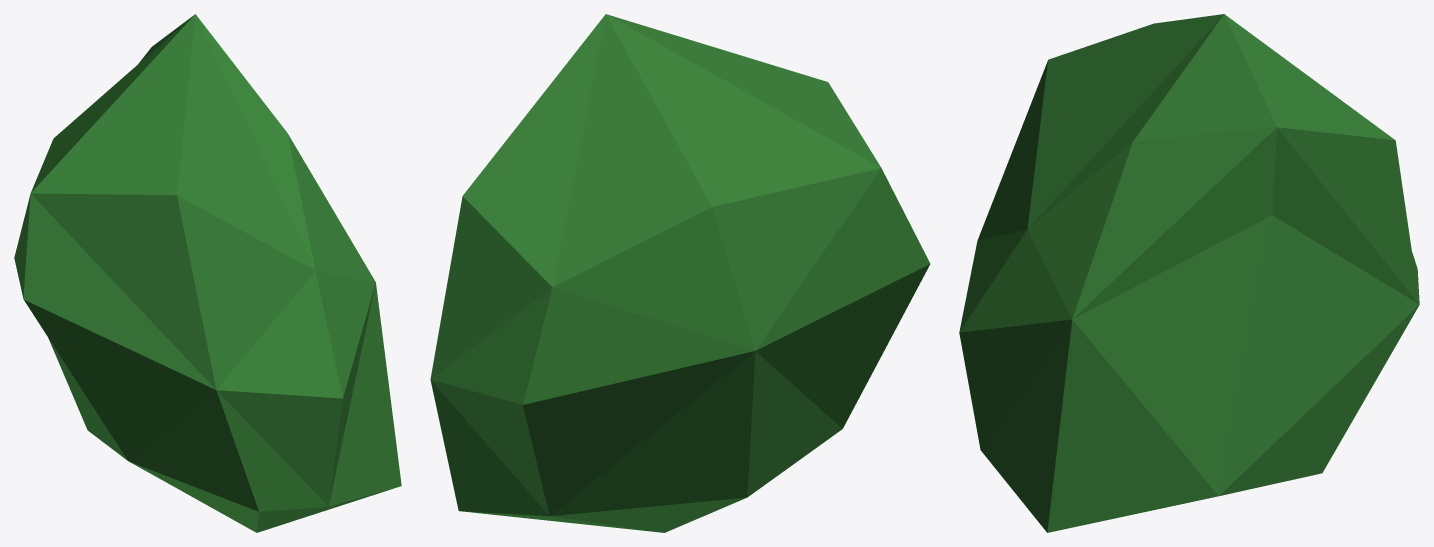
Rendered from shrub_4.obj.
The picture shows the model from 3 angles, left to right: view 1: azimuth 30°, elevation 25°; view 2: azimuth 150°, elevation 25°; view 3: azimuth 270°, elevation 25°; orthographic projection. The views are drawn at different scales.
Visible parts, largest first — view 1: shrub_4 shrubs; view 2: shrub_4 shrubs; view 3: shrub_4 shrubs.
Boxes of the visible parts, x1=… form: shrub_4 shrubs: x1=14, y1=14, x2=401, y2=532; shrub_4 shrubs: x1=430, y1=14, x2=930, y2=532; shrub_4 shrubs: x1=959, y1=14, x2=1419, y2=532.
Size of the model in its own units: 6.44 by 8.58 by 7.17.
